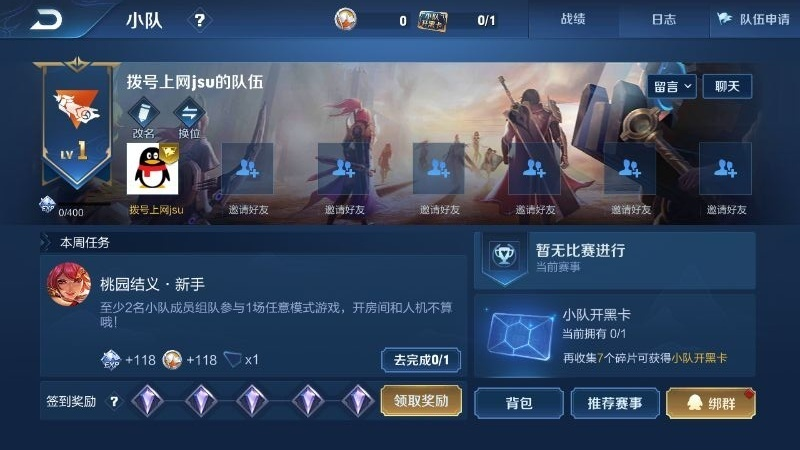obj_2496162770000: (48, 78, 101, 131)
obj_2496162954880: (500, 80, 570, 154)
return: (23, 2, 76, 36)
